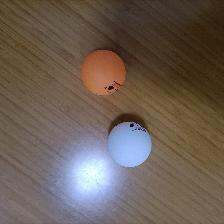WhiteBall: (107, 121, 151, 168)
YellowBall: (80, 49, 126, 96)
